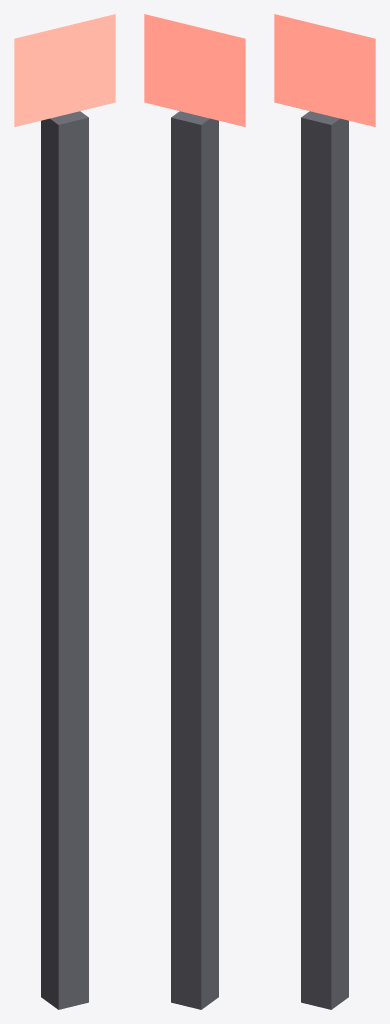
Rendered from antenna_band.glb.
3 views of the same model, side by side, from view 1: azimuth 30°, elevation 25°; view 2: azimuth 150°, elevation 25°; view 3: azimuth 330°, elevation 25° (orthographic).
Parts seen in each view (by area): view 1: antenna_band; view 2: antenna_band; view 3: antenna_band.
Boxes of the visible parts, x1,y1,x2,y2 form: antenna_band: [14, 14, 115, 1009]; antenna_band: [144, 14, 245, 1009]; antenna_band: [274, 14, 375, 1009].
Size of the model in its own units: 0.6 by 5.5 by 0.18.
